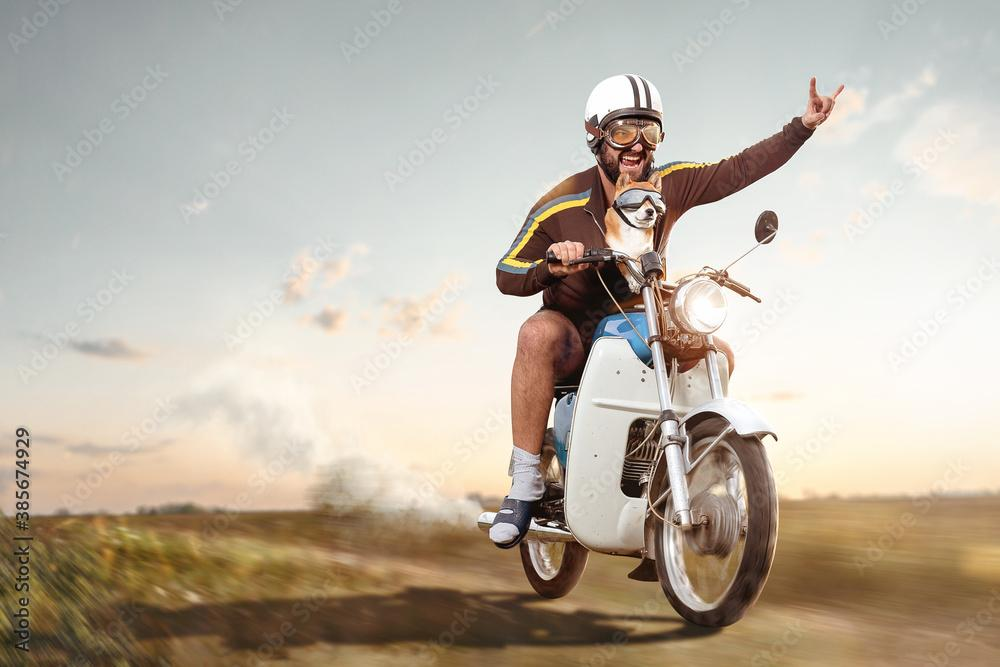helmet: (584, 73, 666, 194)
